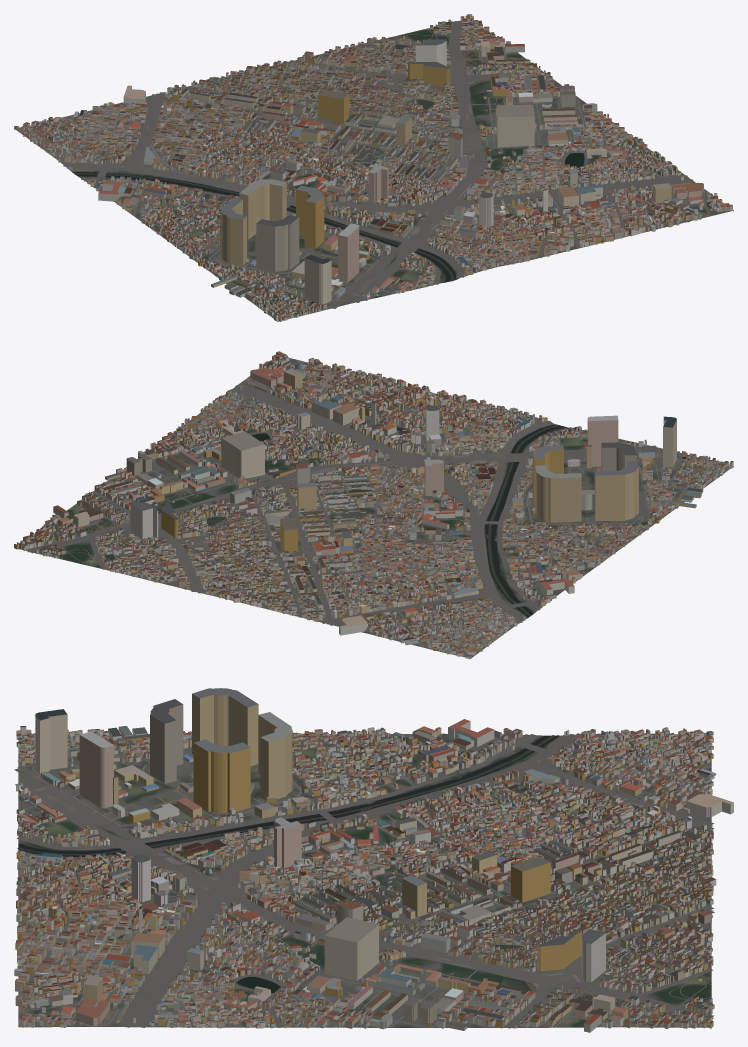
The picture shows the model from 3 angles, top to bottom: view 1: azimuth 30°, elevation 25°; view 2: azimuth 150°, elevation 25°; view 3: azimuth 270°, elevation 25°; orthographic projection. The views are drawn at different scales.
Parts seen in each view (by area): view 1: buildings, ground, roads, water; view 2: buildings, ground, roads, water; view 3: buildings, ground, roads, water.
Boxes of the visible parts, x1=… form: buildings: x1=14, y1=14, x2=732, y2=321; ground: x1=14, y1=20, x2=733, y2=321; roads: x1=31, y1=21, x2=715, y2=318; water: x1=73, y1=44, x2=584, y2=282; buildings: x1=14, y1=351, x2=733, y2=659; ground: x1=18, y1=358, x2=733, y2=657; roads: x1=26, y1=360, x2=728, y2=656; water: x1=104, y1=424, x2=566, y2=617; buildings: x1=14, y1=688, x2=733, y2=1032; ground: x1=18, y1=733, x2=711, y2=1027; roads: x1=14, y1=733, x2=714, y2=1028; water: x1=17, y1=735, x2=683, y2=992.
Size of the model in its own units: 1468 by 143 by 1456.
